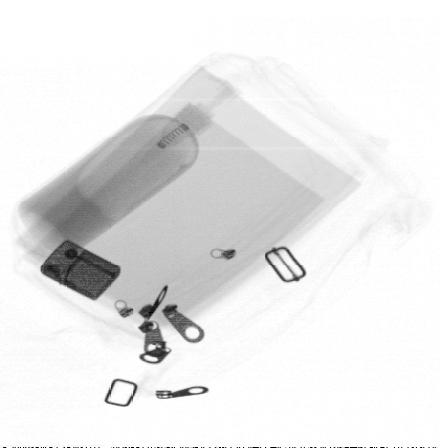Lighter: (38, 239, 122, 302)
